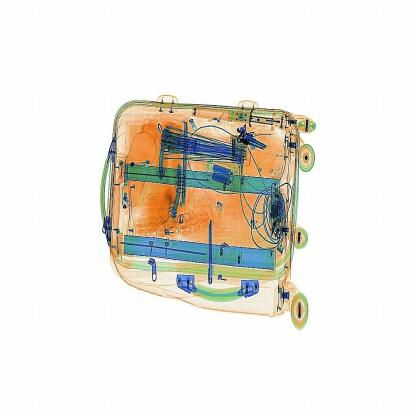pliers: (195, 205, 220, 290)
